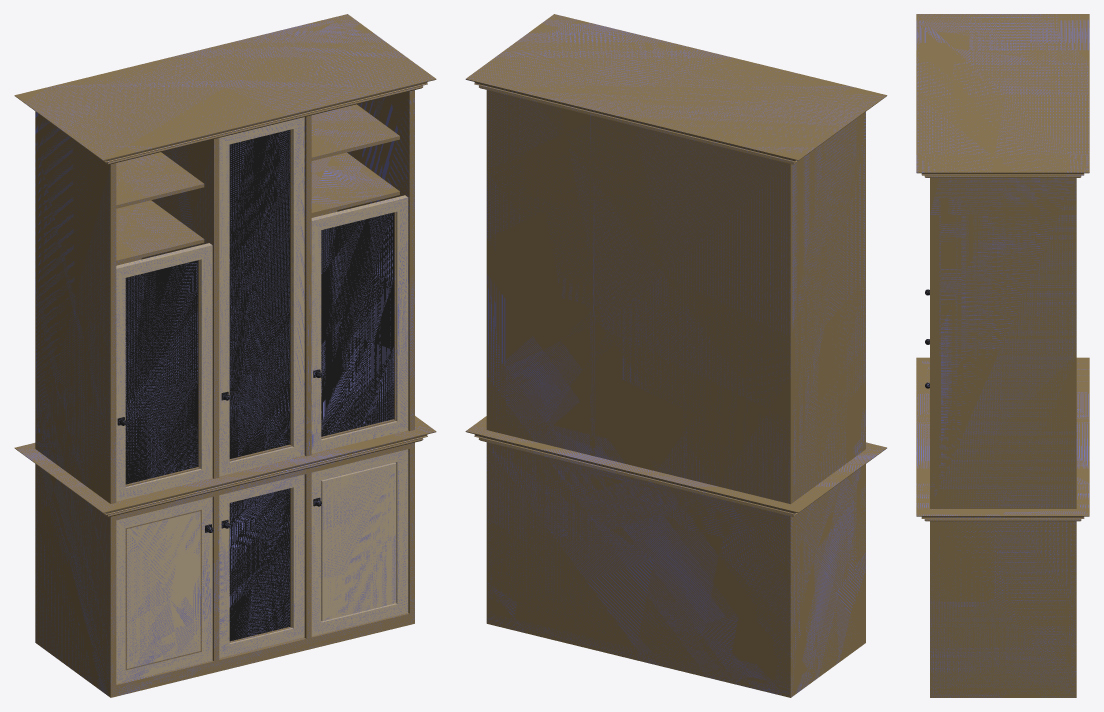
3 views of the same model, side by side, from view 1: azimuth 30°, elevation 25°; view 2: azimuth 150°, elevation 25°; view 3: azimuth 270°, elevation 25° (orthographic). The views are drawn at different scales.
Visible parts, largest first — view 1: wardrobe-d (×28); view 2: wardrobe-d (×6); view 3: wardrobe-d (×4).
Boxes of the visible parts, left/top/right/bottom form: wardrobe-d (×28): left=14, top=14, right=436, bottom=697; wardrobe-d (×6): left=465, top=14, right=887, bottom=697; wardrobe-d (×4): left=916, top=14, right=1089, bottom=697.
Size of the model in its own units: 1364 by 630 by 2136.
